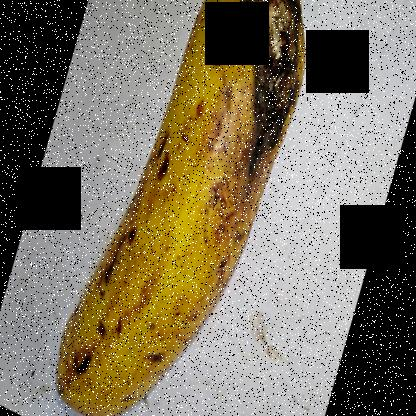ripe: (42, 153, 297, 415)
rotten: (187, 0, 323, 181)
